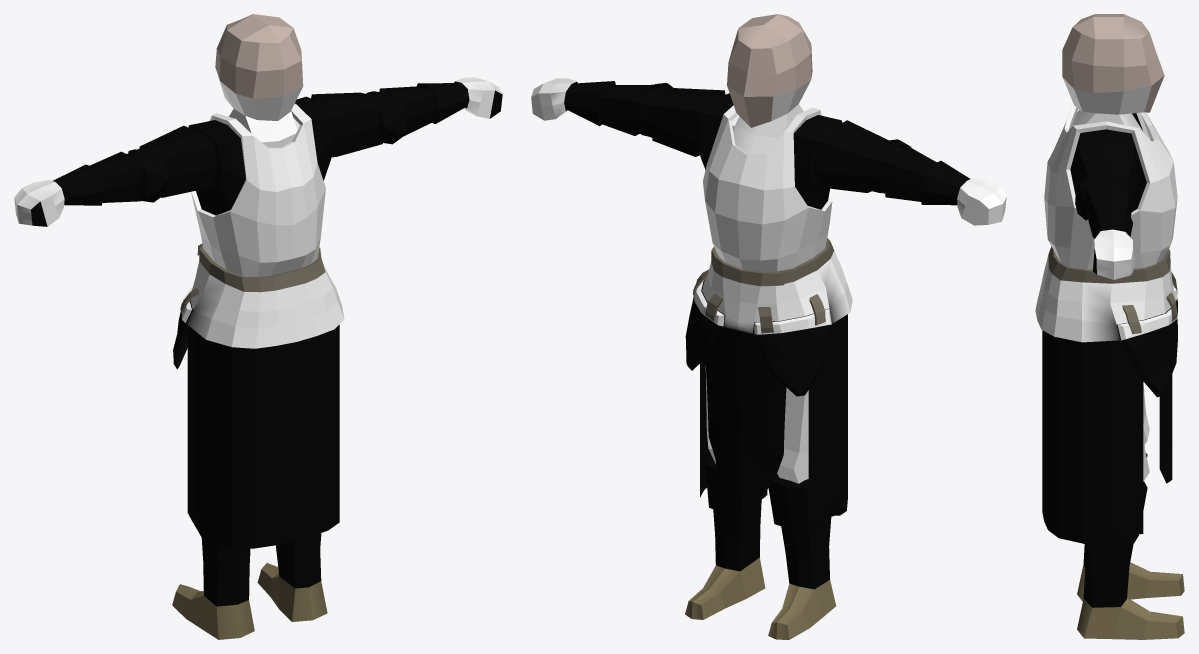
File: Soldier Unwrapped.fbx
The picture shows the model from 3 angles, left to right: view 1: azimuth 30°, elevation 25°; view 2: azimuth 150°, elevation 25°; view 3: azimuth 270°, elevation 25°; orthographic projection. The views are drawn at different scales.
Parts seen in each view (by area): view 1: polySurface1041; view 2: polySurface1041; view 3: polySurface1041.
Part boxes in pixels (box(x1,y1,x2,y2)): polySurface1041: box(14, 14, 502, 639); polySurface1041: box(531, 14, 1006, 639); polySurface1041: box(1035, 14, 1184, 639).
Size of the model in its own units: 1.46 by 1.73 by 0.3943.
